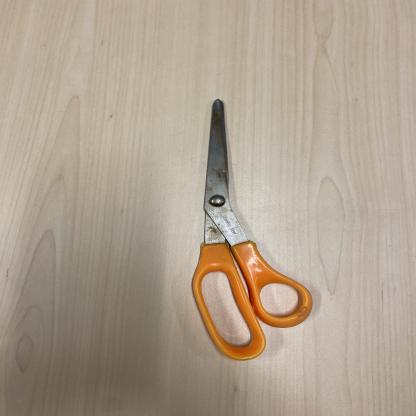scissors: (187, 100, 318, 361)
